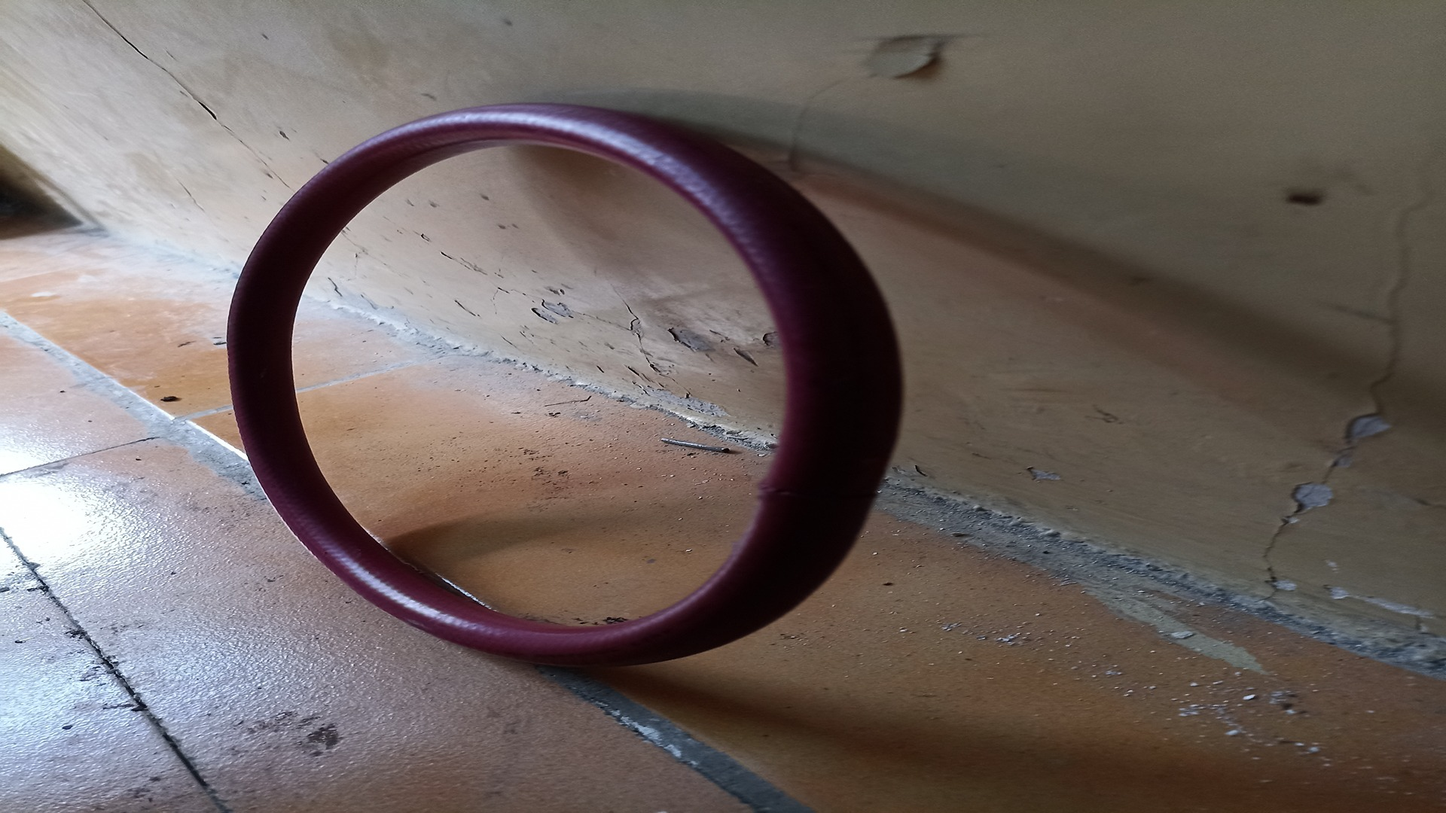Red ring: (224, 104, 886, 671)
